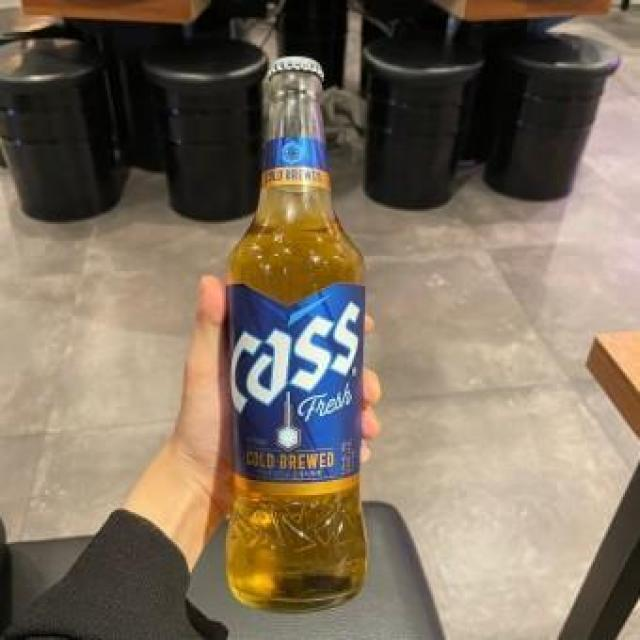beer-bottle: (219, 54, 372, 616)
